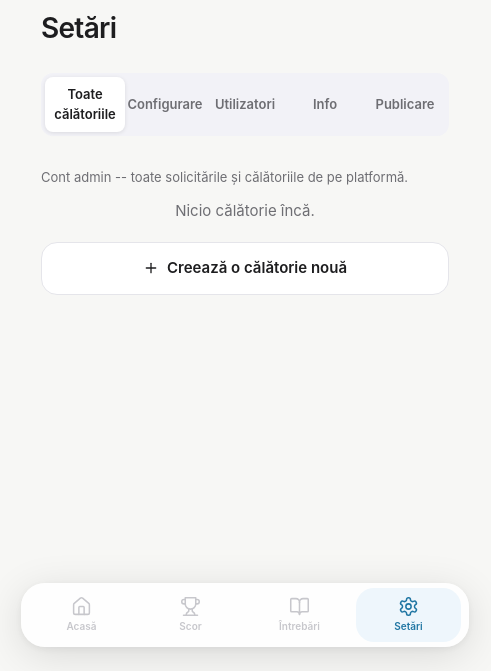
R7: Setări > Publicare -- issue list and publish gating › shows every error issue with its Romanian label and day number, and disables Publică
Click the button "Publicare". click: [405, 104]
box: top-left (365, 77), bottom-right (445, 132)
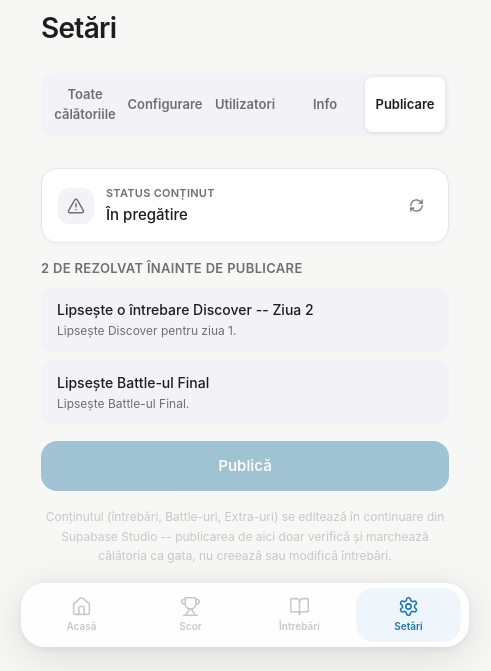
Result: the text "Lipsește o întrebare Discover -- Ziua 2" is shown at top-left (57, 300), bottom-right (314, 318)
Result: the text "Lipsește Battle-ul Final" is shown at top-left (57, 374), bottom-right (209, 390)
Result: the button "Publică" is disabled at top-left (41, 440), bottom-right (449, 491)
